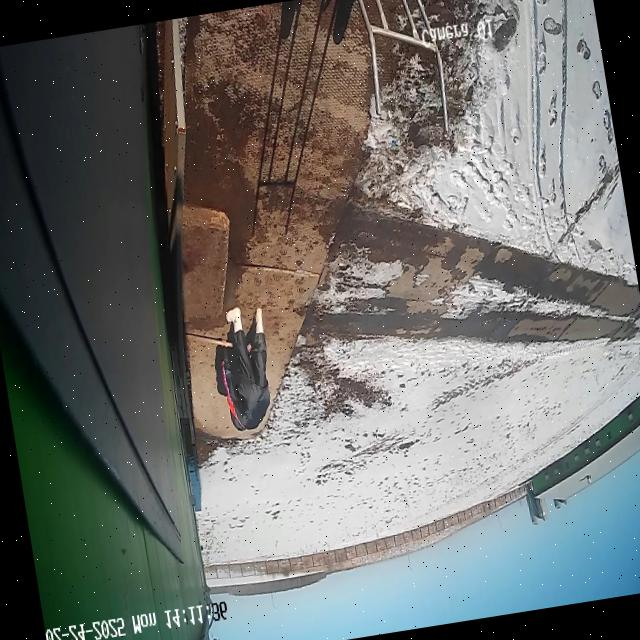Red uniform: (205, 300, 282, 438)
